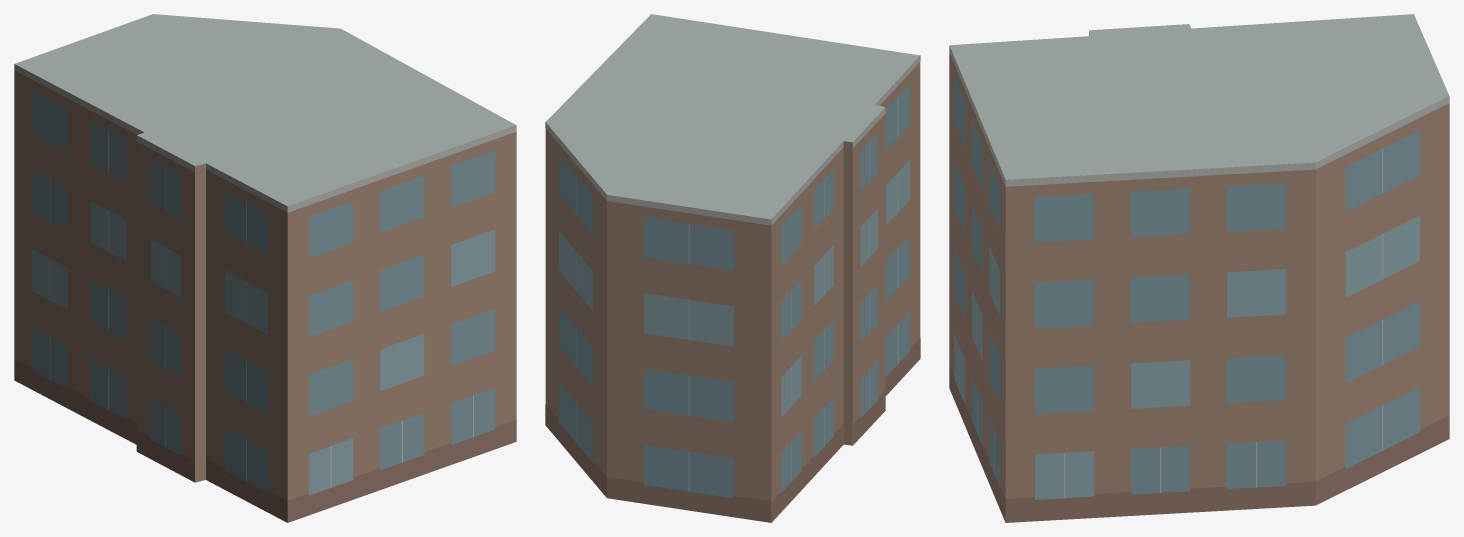
The model's file is survey-upis-32576074.glb.
The picture shows the model from 3 angles, left to right: view 1: azimuth 30°, elevation 25°; view 2: azimuth 150°, elevation 25°; view 3: azimuth 270°, elevation 25°; orthographic projection. The views are drawn at different scales.
Parts seen in each view (by area): view 1: survey-upis-32576074.tmp; view 2: survey-upis-32576074.tmp; view 3: survey-upis-32576074.tmp.
Boxes of the visible parts, left/top/right/bottom form: survey-upis-32576074.tmp: left=14, top=14, right=516, bottom=522; survey-upis-32576074.tmp: left=545, top=14, right=920, bottom=522; survey-upis-32576074.tmp: left=949, top=14, right=1449, bottom=522.
Size of the model in its own units: 12.54 by 12.08 by 15.98.
